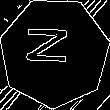N_E: (29, 32, 80, 73)
